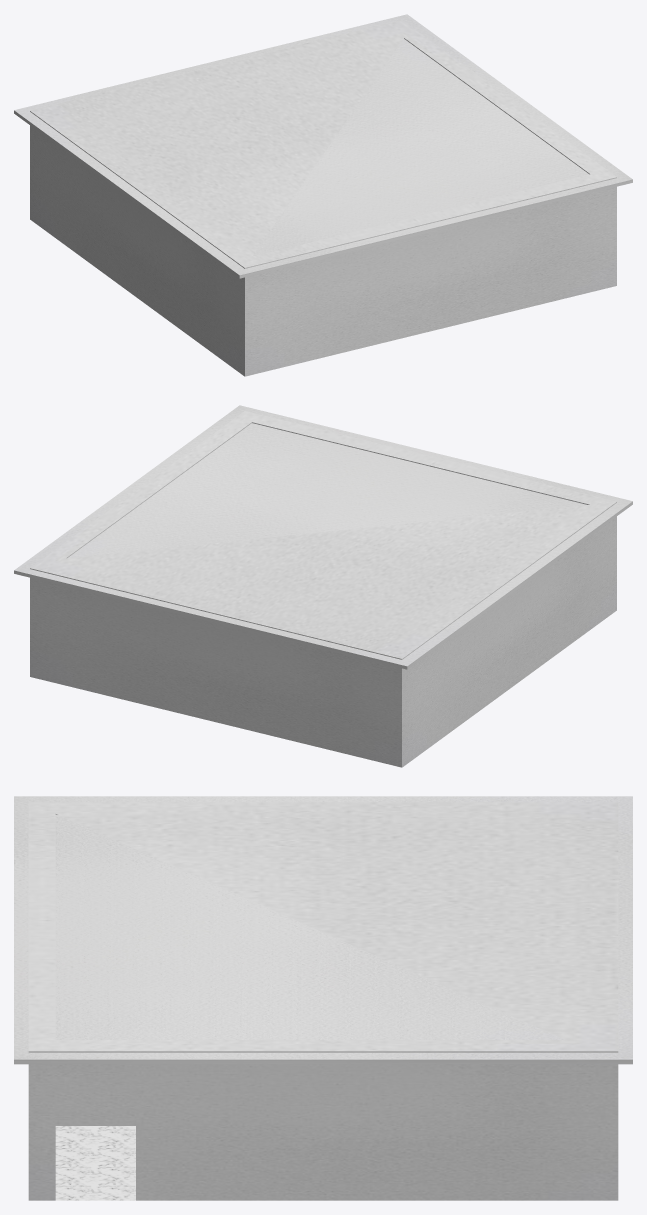
File: Start Room.fbx
3 renders of one model, top to bottom at view 1: azimuth 30°, elevation 25°; view 2: azimuth 150°, elevation 25°; view 3: azimuth 270°, elevation 25°, orthographic. The views are drawn at different scales.
Parts seen in each view (by area): view 1: Walls, Ceiling; view 2: Walls, Ceiling; view 3: Walls, Ceiling, floor.001.
Part boxes in pixels (x1,y1,x2,y2): Walls: (30, 20, 616, 376); Ceiling: (14, 14, 632, 278); Walls: (30, 411, 616, 767); Ceiling: (14, 405, 632, 669); Walls: (28, 802, 618, 1200); Ceiling: (14, 796, 632, 1064); floor.001: (55, 1126, 135, 1200).
Size of the model in its own units: 3500 by 924 by 3478.
Materials: 3 (3 with a texture image).
